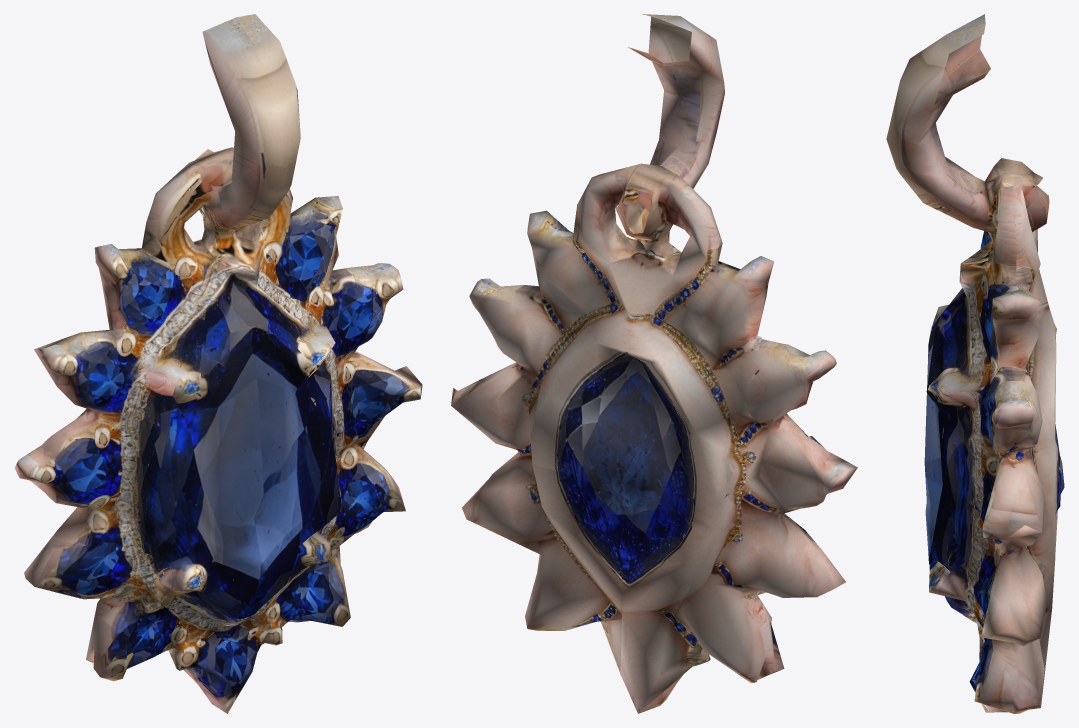
Rendered from sapphire_earring.glb.
3 views of the same model, side by side, from view 1: azimuth 30°, elevation 25°; view 2: azimuth 150°, elevation 25°; view 3: azimuth 270°, elevation 25° (orthographic). The views are drawn at different scales.
Visible parts, largest first — view 1: earring_l; view 2: earring_l; view 3: earring_l.
Boxes of the visible parts, left/top/right/bottom form: earring_l: left=14, top=14, right=422, bottom=713; earring_l: left=451, top=14, right=857, bottom=713; earring_l: left=886, top=14, right=1064, bottom=713.
Bounding box in the file's own units: 0.0237 × 0.0393 × 0.00916.
1 material, 1 textured.
